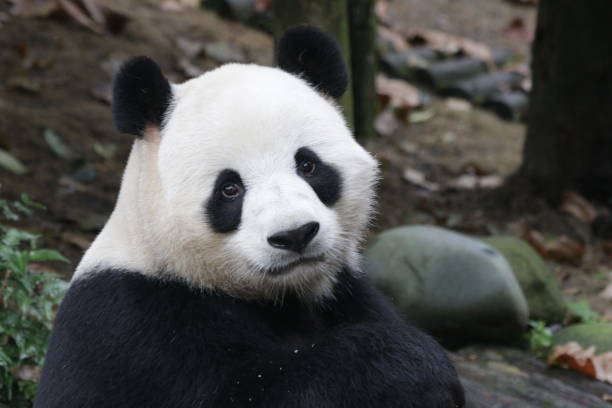panda: (90, 19, 406, 335)
